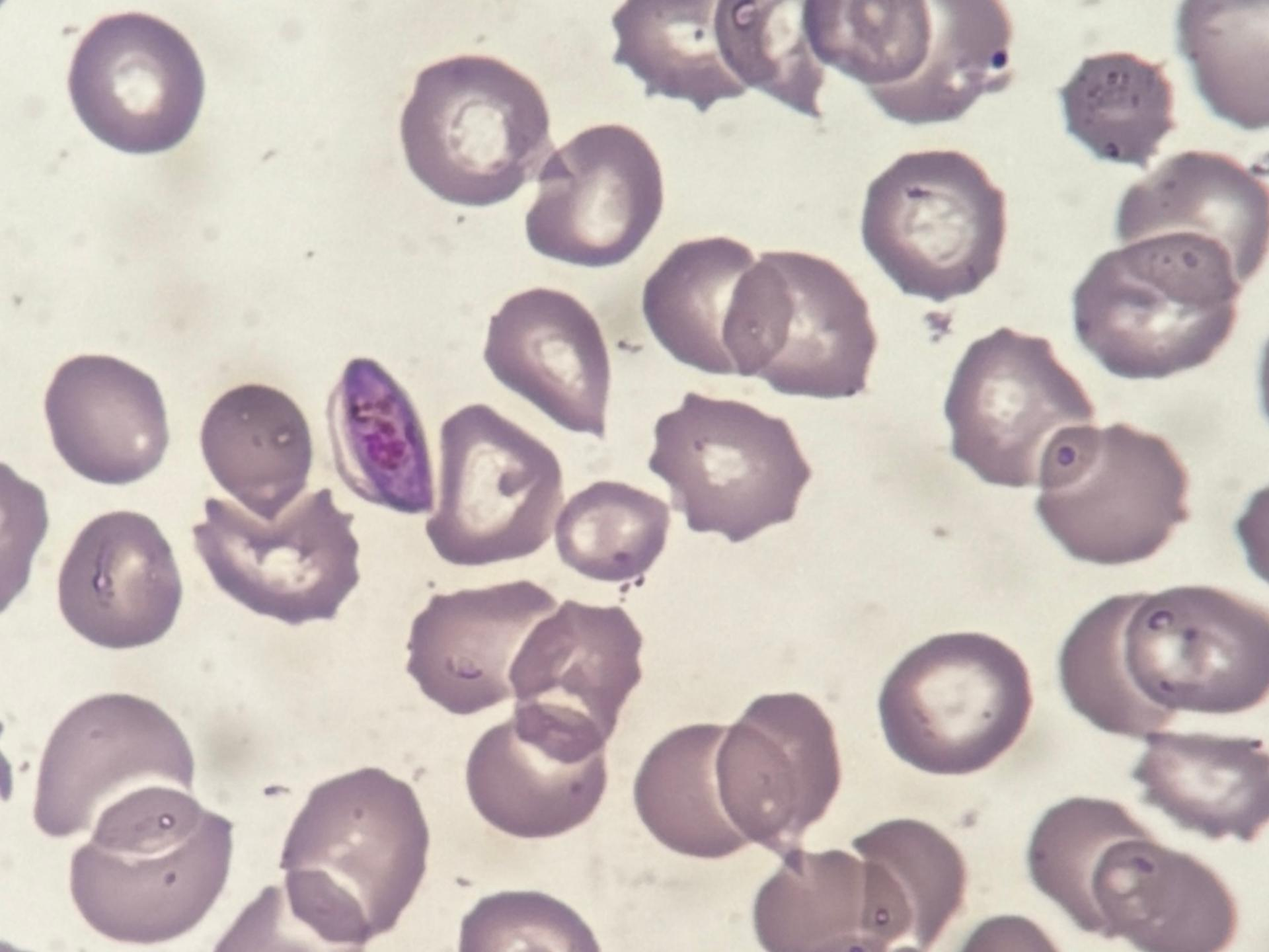Infected: (835, 1, 1011, 121), (325, 357, 432, 509)
Uninfected: (1063, 587, 1266, 733), (278, 768, 424, 941), (68, 788, 230, 941), (34, 694, 194, 843), (1074, 234, 1239, 376), (650, 396, 807, 541), (944, 331, 1091, 485), (196, 486, 359, 621), (401, 58, 551, 204), (425, 408, 563, 565), (863, 150, 1005, 298), (879, 634, 1029, 774), (506, 602, 640, 755), (1039, 424, 1186, 562), (714, 694, 839, 856), (407, 580, 558, 714), (646, 239, 792, 371), (736, 252, 870, 393), (484, 289, 611, 436), (69, 13, 202, 151), (1122, 151, 1268, 276), (527, 126, 659, 263), (1030, 799, 1159, 932), (466, 719, 607, 838), (57, 513, 181, 647), (759, 846, 909, 952), (44, 356, 168, 483), (634, 729, 755, 857), (1099, 844, 1237, 951), (1135, 730, 1268, 837), (615, 1, 748, 107), (200, 385, 311, 510), (713, 2, 827, 115), (1064, 52, 1172, 162), (555, 483, 666, 581), (807, 1, 922, 81)
